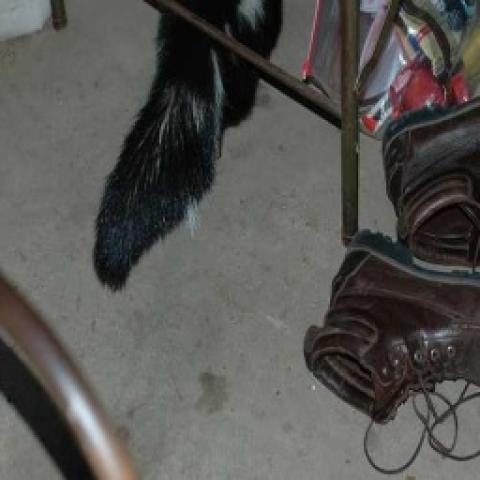small_animal: (95, 0, 301, 279)
